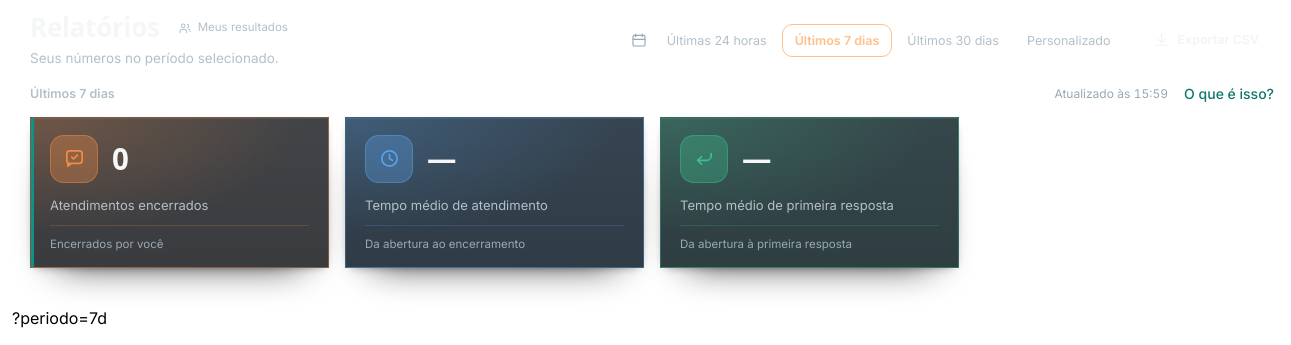
Test: ReportsPage › lê o período da URL e escreve ao trocar
The width and height of the screenshot is (1291, 345).
Click the button "Últimos 30 dias" at (953, 40), box [894, 24, 1012, 57]
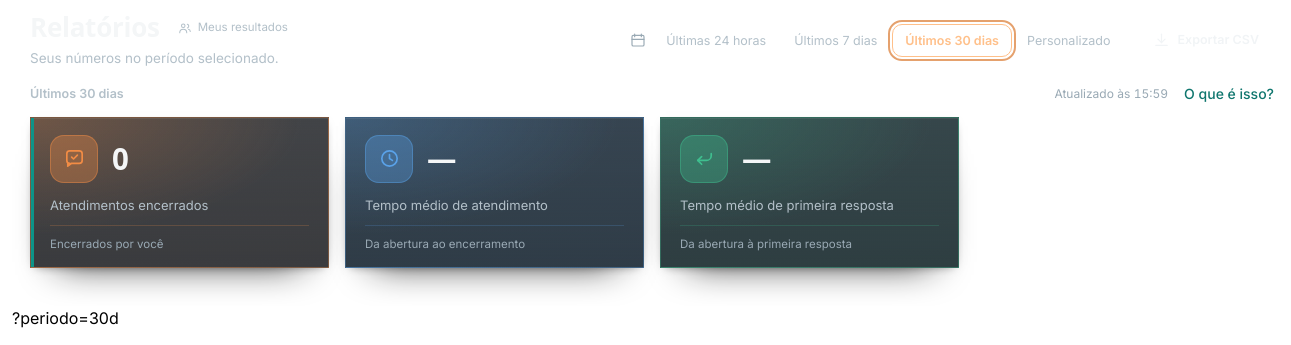
Expected: the text with test id "location-search" shows "periodo=30d", [12, 308, 119, 328]
